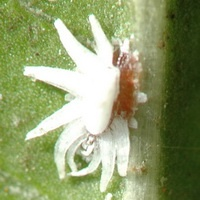insect: (24, 14, 129, 191)
